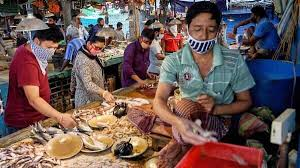mask: (186, 8, 220, 53), (36, 29, 61, 65), (87, 31, 106, 57), (138, 25, 156, 48), (248, 5, 268, 24), (169, 20, 178, 36), (97, 13, 106, 28), (115, 17, 125, 30), (47, 15, 57, 26)
